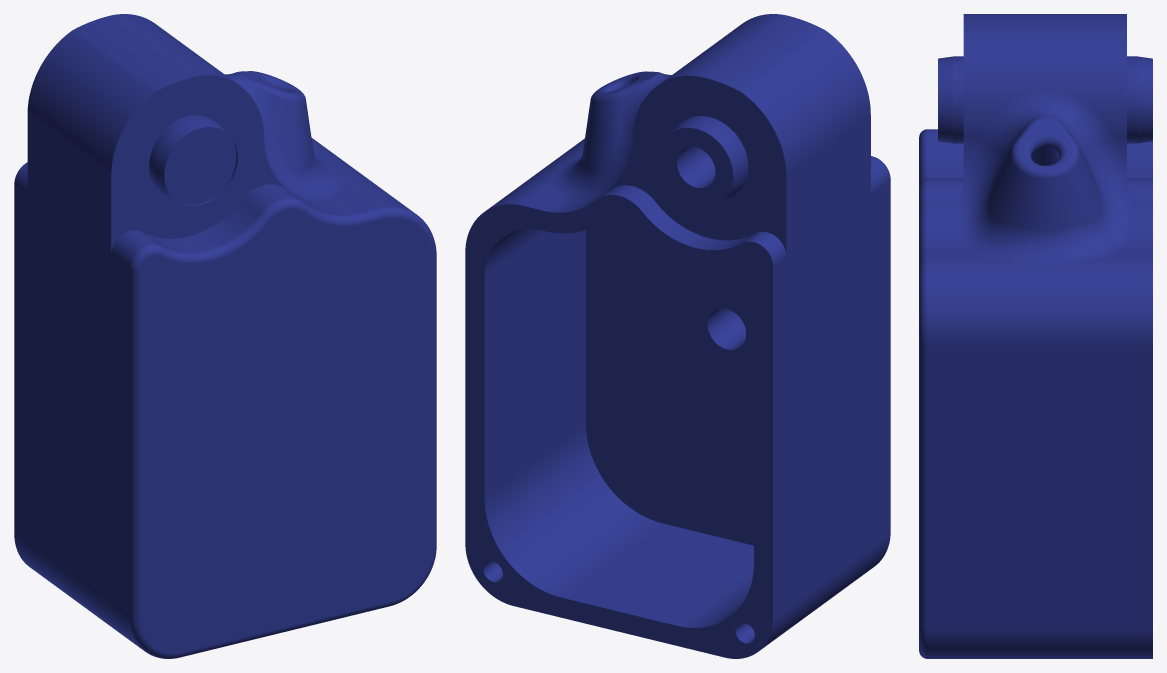
Rendered from SolidSpitSmolV5 v90_SolidSpitSmolV5 v90_Component11_1_MainBody_1_Body1_MainBody.obj.
The picture shows the model from 3 angles, left to right: view 1: azimuth 30°, elevation 25°; view 2: azimuth 150°, elevation 25°; view 3: azimuth 270°, elevation 25°; orthographic projection. The views are drawn at different scales.
Visible parts, largest first — view 1: Body1; view 2: Body1; view 3: Body1.
Part boxes in pixels (x1,y1,x2,y2): Body1: (14, 14, 436, 658); Body1: (465, 14, 890, 658); Body1: (919, 14, 1152, 658).
Bounding box in the file's own units: 32 × 55.83 × 21.75.
